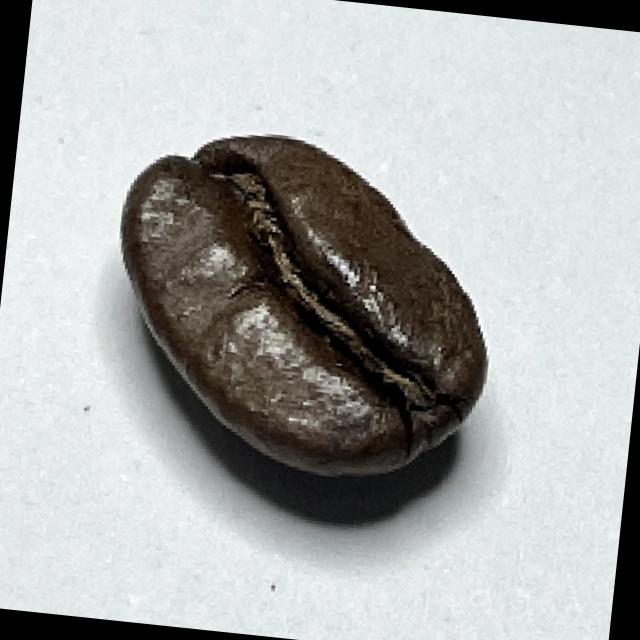bean: (97, 118, 512, 496)
